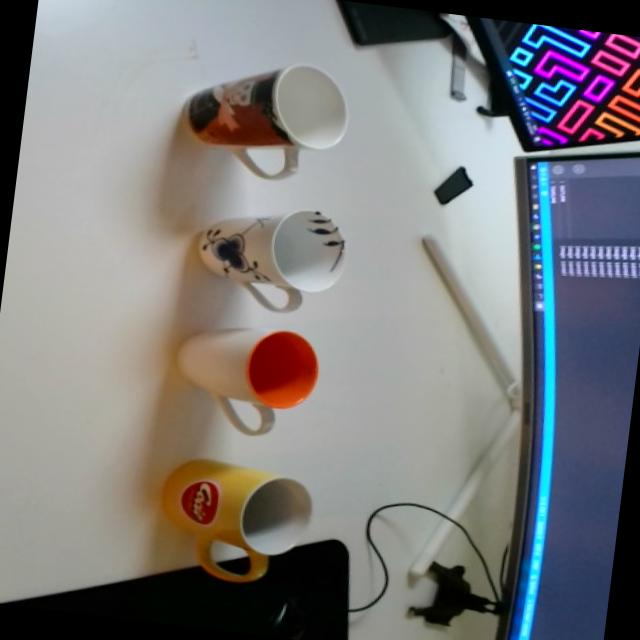Cocio Cup: (150, 454, 317, 592)
Halloween cup: (176, 48, 354, 188)
Hand painted cup: (190, 198, 348, 321)
White Cup: (167, 317, 322, 445)
